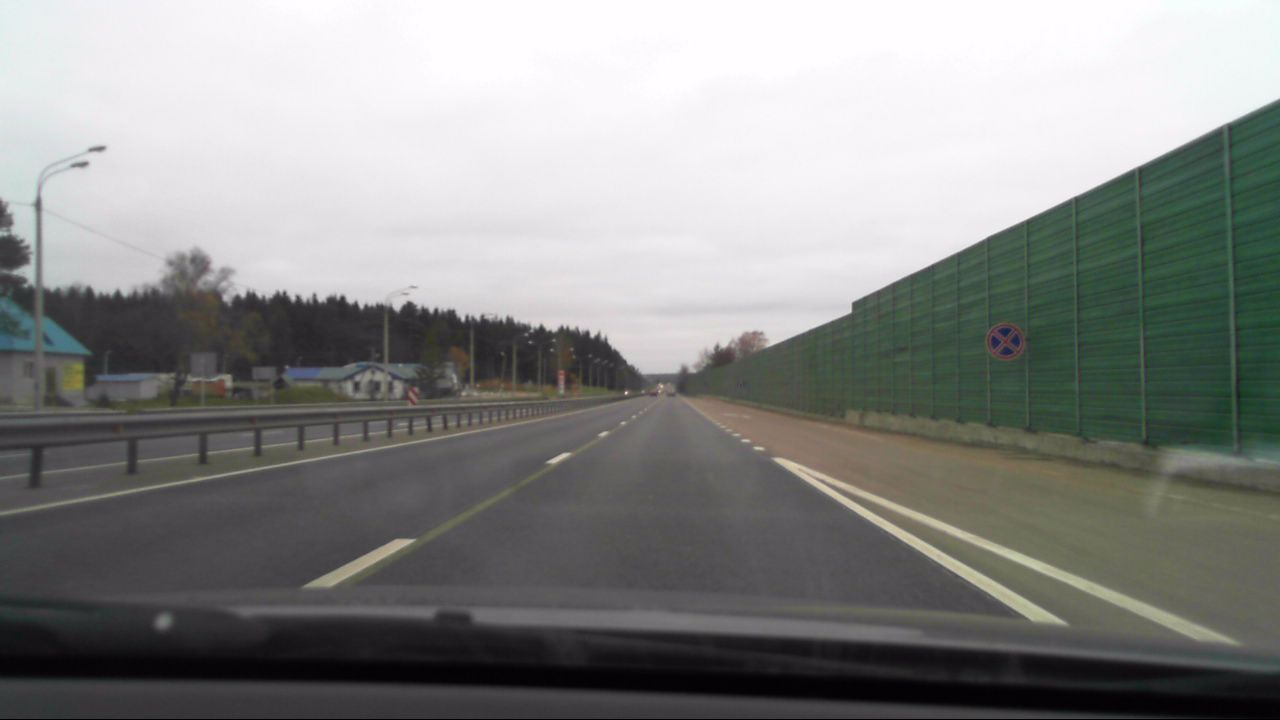No Parking: (982, 322, 1025, 362)
